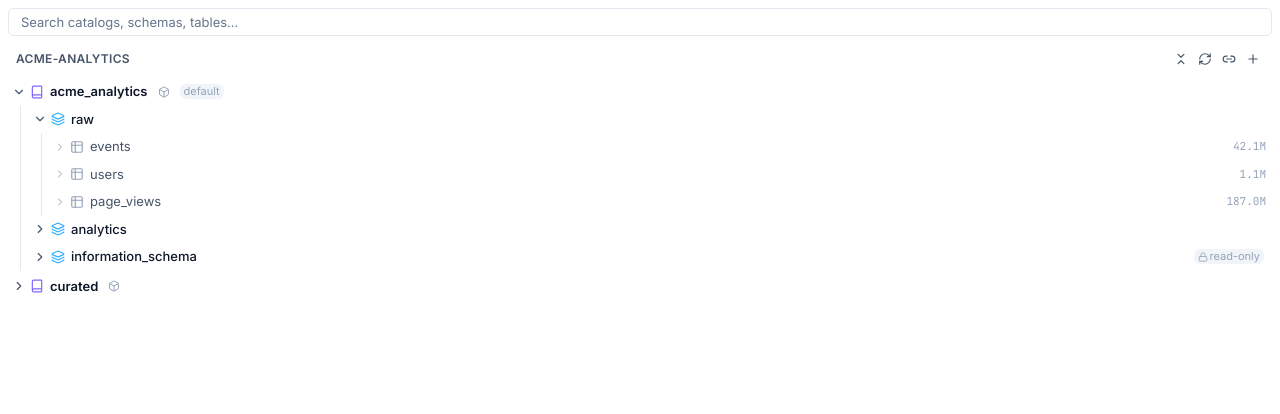
Test case: CatalogTree › expands a table to reveal its columns
The image size is (1280, 414).
Expected: the text "event_id" is not shown
// The expand toggle sits alongside the table name in the same row.
Click the 1st button named "show columns" at (60, 147), box [50,137,70,157]
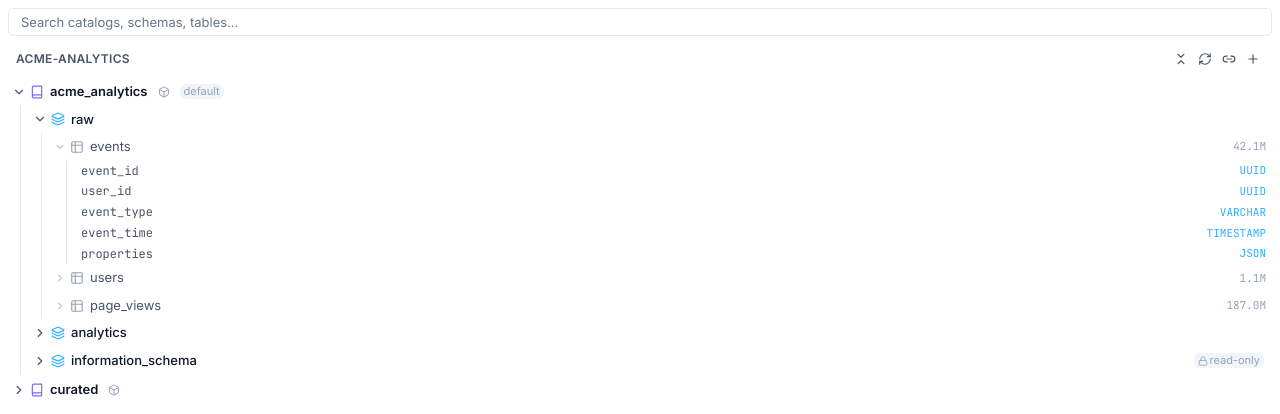
Expected: the text "event_id" is shown, [81,162,139,179]
Expected: the text "event_type" is shown, [81,204,153,221]
